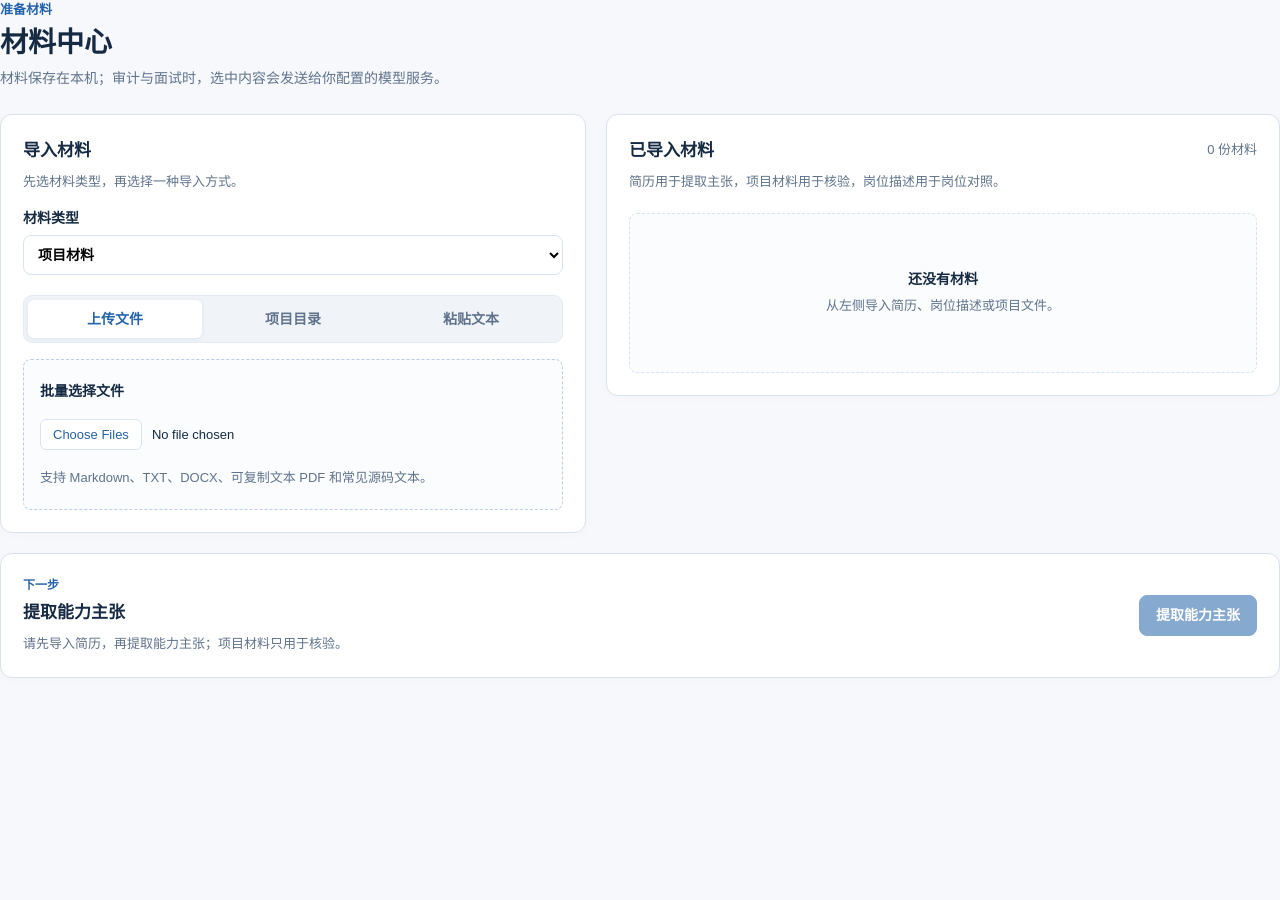
Test: 导入粘贴材料失败时展示可理解的错误
Click the button "粘贴文本" at x=471, y=319, box [384, 300, 558, 338]
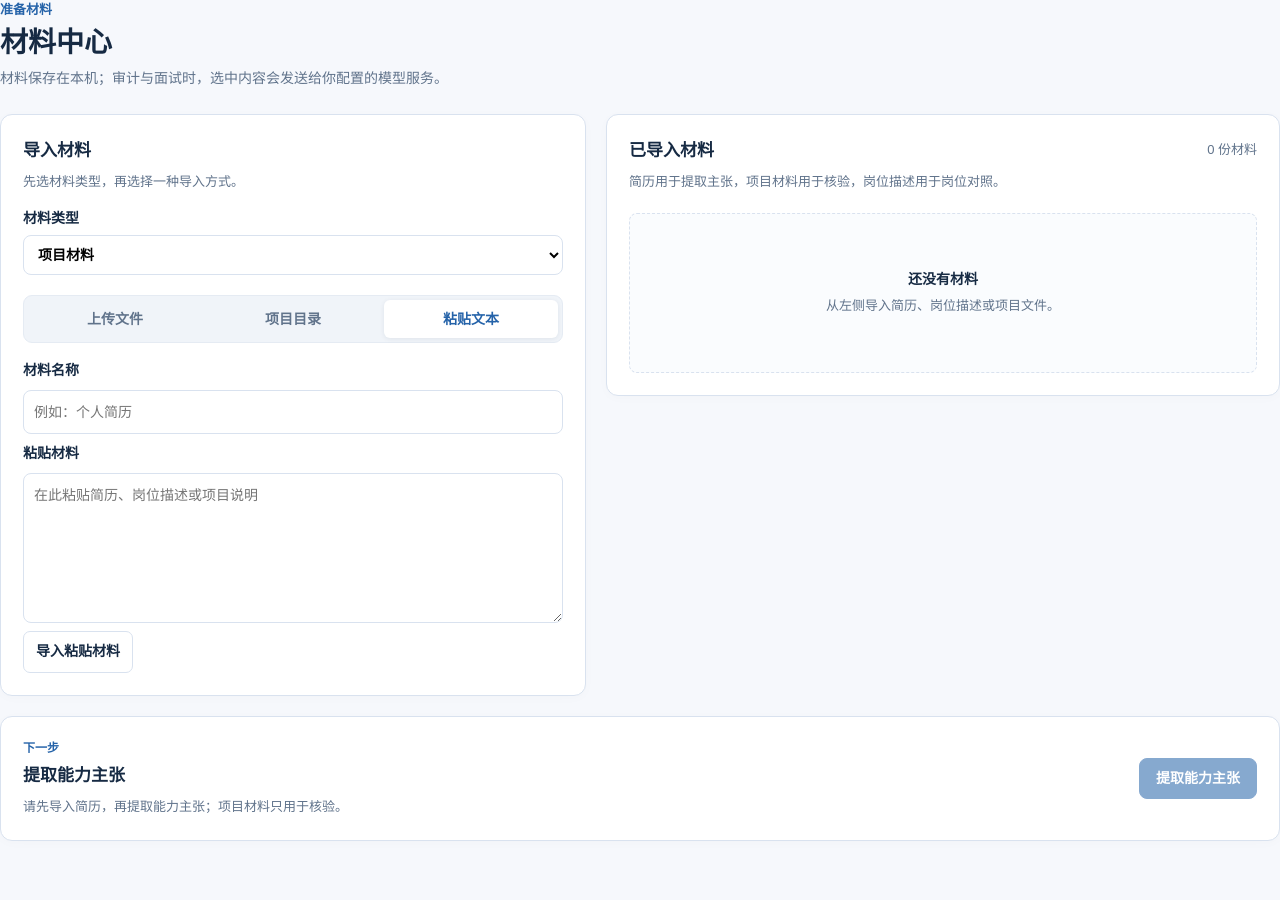
Type "岗位描述" into the field labelled "材料名称" at x=293, y=412, box [23, 390, 563, 434]
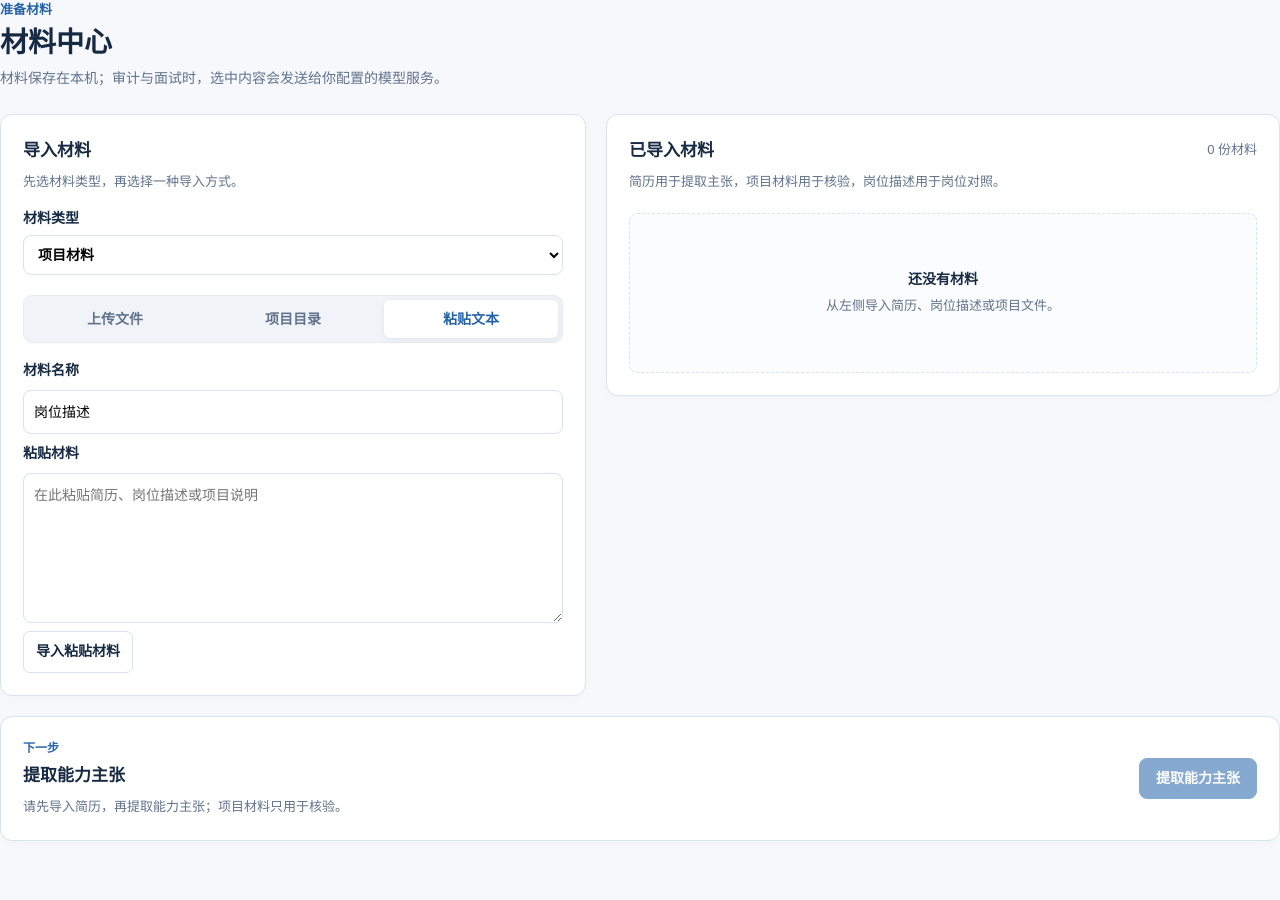
Type "负责 AI 应用开发" into the text box labelled "粘贴材料" at x=293, y=548, box [23, 472, 563, 622]
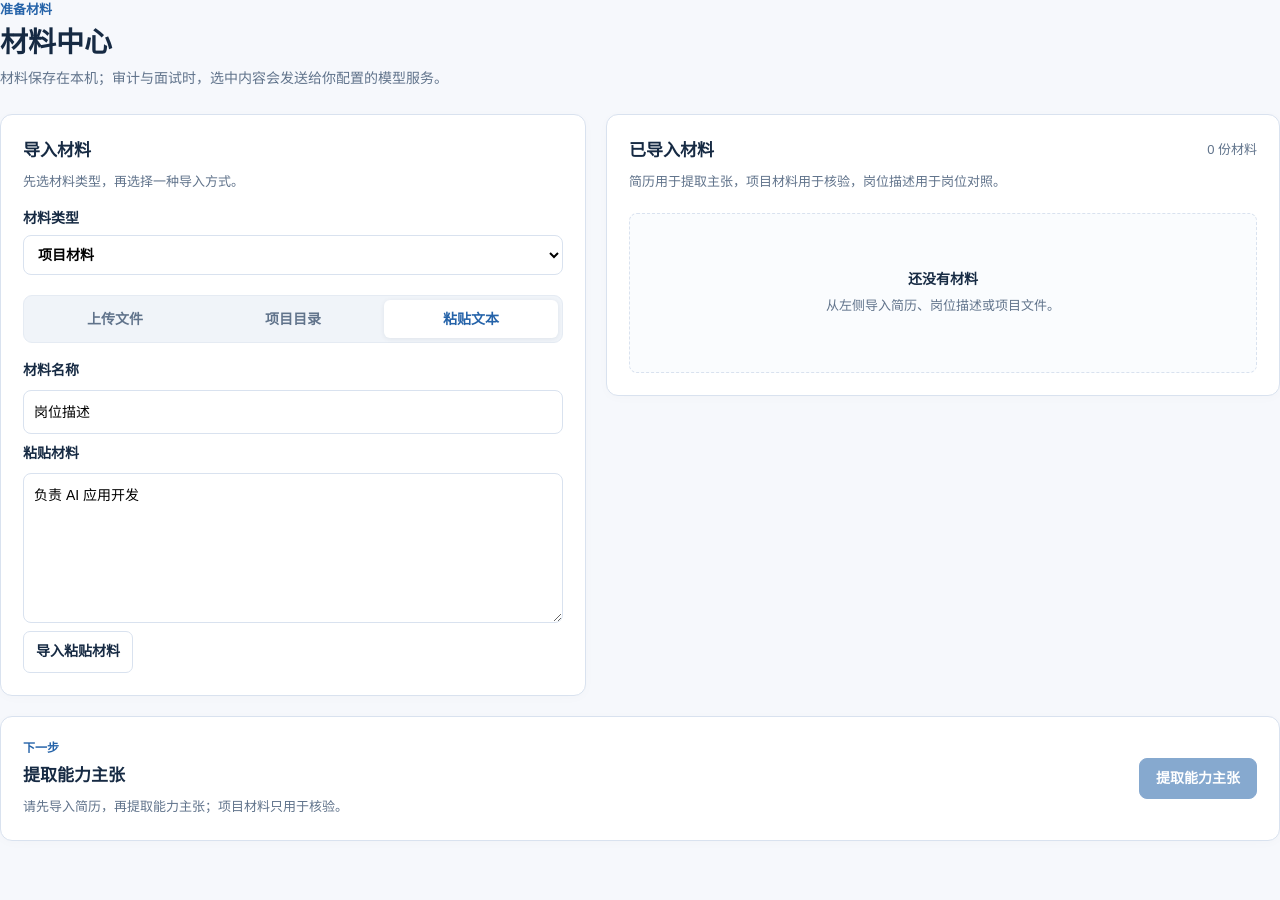
Click the button "导入粘贴材料" at x=78, y=652, box [23, 630, 133, 672]
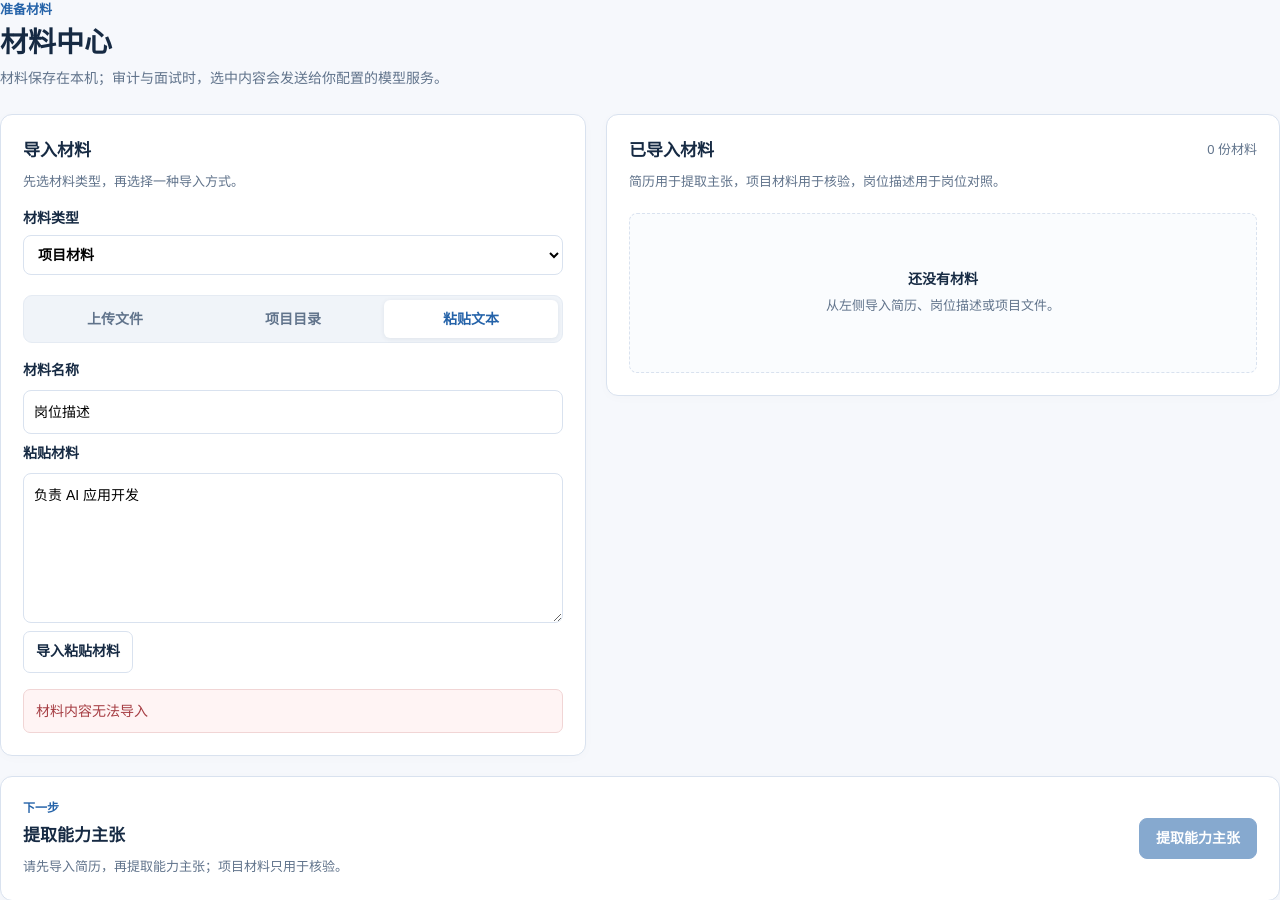
Result: the message reads "材料内容无法导入" at [36, 702, 148, 718]
